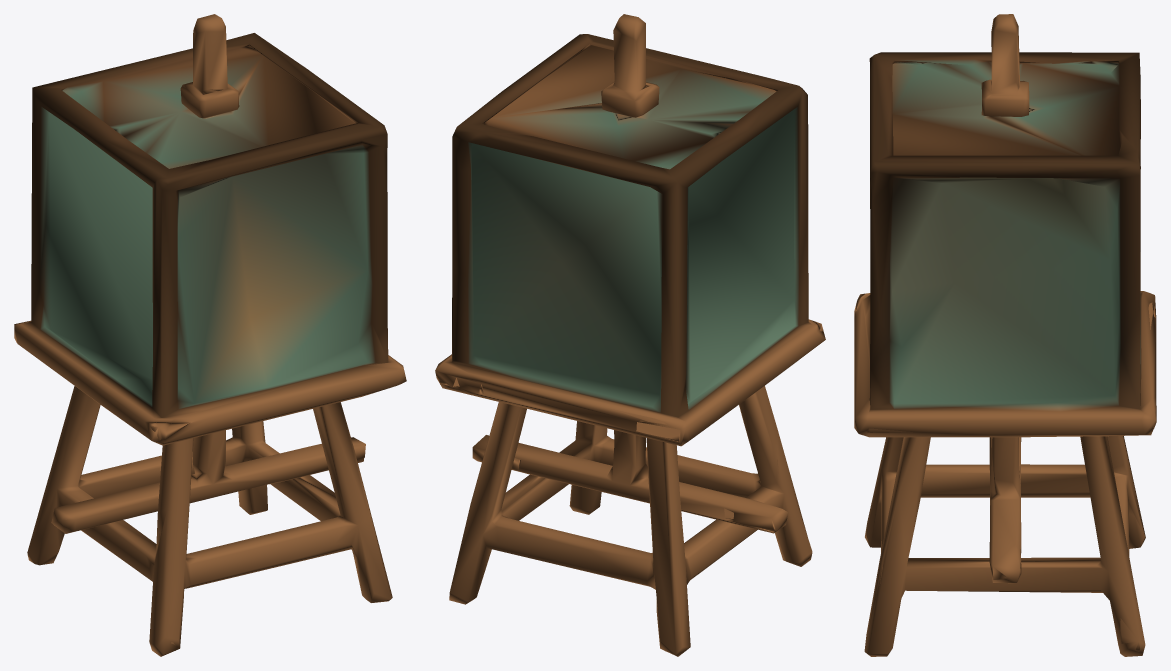
File: gen3d-easel-lod1.glb
3 views of the same model, side by side, from view 1: azimuth 30°, elevation 25°; view 2: azimuth 150°, elevation 25°; view 3: azimuth 270°, elevation 25° (orthographic). The views are drawn at different scales.
Visible parts, largest first — view 1: part_0; view 2: part_0; view 3: part_0.
Part boxes in pixels (<box>): part_0: <box>14,14,406,656</box>; part_0: <box>435,14,825,656</box>; part_0: <box>854,14,1156,656</box>.
Size of the model in its own units: 0.5661 by 0.9994 by 0.4703.
